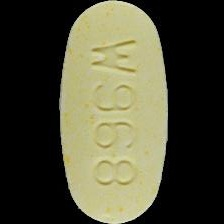64679-968: (0, 0, 224, 224)
